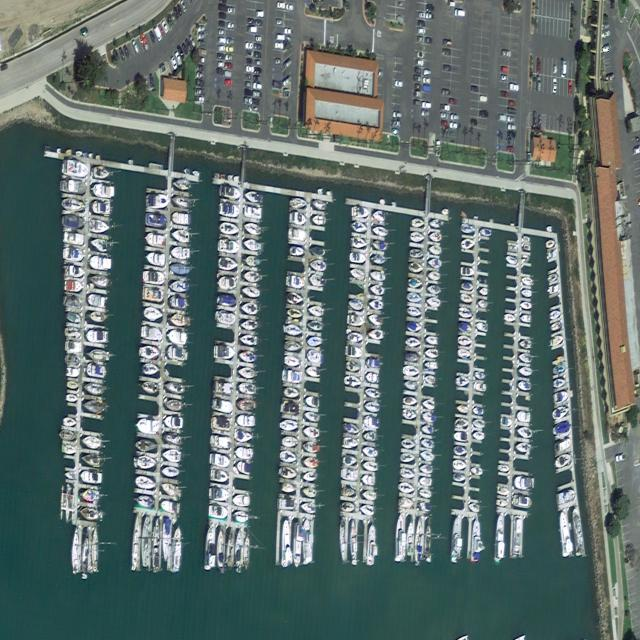ship: (393, 512, 407, 565), (59, 483, 76, 524), (558, 510, 571, 561), (130, 513, 141, 572), (450, 516, 462, 566), (571, 508, 583, 558), (61, 159, 89, 180), (170, 526, 182, 574), (151, 518, 161, 574), (204, 525, 215, 573), (494, 515, 505, 563), (140, 516, 150, 568), (292, 523, 302, 570), (471, 517, 481, 564), (60, 179, 87, 196), (512, 516, 523, 557), (281, 519, 290, 569), (414, 517, 423, 567), (366, 524, 376, 568), (302, 519, 311, 567), (424, 517, 433, 564), (555, 487, 576, 507), (62, 197, 85, 214), (89, 255, 112, 272), (212, 398, 233, 416), (209, 451, 230, 469), (140, 325, 162, 342), (62, 214, 84, 231), (349, 519, 358, 560), (161, 520, 170, 561), (338, 517, 346, 563), (552, 419, 571, 438), (216, 528, 225, 568), (81, 529, 89, 574), (63, 247, 84, 264), (145, 213, 167, 229), (92, 183, 114, 199), (219, 185, 241, 201), (210, 434, 232, 450), (91, 529, 99, 573), (161, 482, 183, 498), (63, 231, 85, 247), (146, 194, 169, 209), (554, 451, 572, 470), (89, 219, 109, 236), (219, 202, 239, 219), (211, 416, 231, 433), (143, 287, 164, 303), (218, 239, 239, 255), (135, 475, 156, 491), (137, 419, 158, 435), (143, 271, 165, 286), (136, 439, 158, 454), (72, 528, 79, 575), (234, 529, 242, 570), (91, 164, 110, 181), (143, 306, 163, 322), (216, 310, 236, 326), (209, 487, 229, 503), (136, 456, 156, 472), (86, 362, 106, 378), (81, 452, 101, 468), (145, 232, 166, 247), (214, 345, 235, 360), (82, 399, 103, 414), (512, 494, 533, 509), (226, 529, 234, 568), (86, 330, 108, 344), (554, 437, 572, 454), (552, 404, 570, 421), (218, 275, 237, 291), (167, 346, 187, 361), (208, 505, 228, 520), (139, 345, 159, 360), (89, 274, 109, 289), (84, 381, 104, 396), (168, 313, 189, 327), (81, 470, 102, 484), (64, 265, 85, 279), (406, 521, 414, 557), (244, 189, 263, 204), (220, 221, 239, 236), (217, 293, 236, 308), (214, 380, 233, 395), (210, 469, 229, 484), (135, 494, 154, 509), (162, 449, 181, 464), (170, 262, 190, 276), (219, 257, 239, 271), (276, 497, 296, 511), (514, 476, 534, 490), (281, 401, 299, 416), (288, 228, 306, 243), (233, 493, 251, 508), (92, 200, 110, 215), (90, 238, 108, 253), (80, 507, 98, 522), (282, 370, 301, 384), (168, 330, 187, 344), (64, 280, 83, 294), (88, 293, 107, 307), (88, 348, 107, 362), (146, 253, 166, 266), (63, 295, 83, 308), (169, 296, 186, 311), (241, 301, 258, 316), (244, 221, 261, 236), (161, 499, 178, 514), (286, 275, 304, 289), (243, 536, 250, 572), (164, 382, 185, 394), (142, 363, 160, 377), (83, 435, 101, 449), (172, 195, 191, 208), (239, 334, 258, 347), (80, 488, 99, 501), (164, 416, 183, 429), (553, 390, 569, 405), (307, 350, 324, 364), (279, 451, 296, 465), (173, 178, 190, 192), (289, 211, 306, 225), (350, 236, 367, 250), (341, 468, 358, 482), (65, 340, 82, 354), (279, 466, 297, 479), (347, 314, 365, 327), (234, 430, 252, 443), (237, 414, 255, 427), (161, 465, 179, 478), (280, 420, 299, 432), (169, 280, 188, 292), (171, 247, 190, 259), (237, 399, 256, 411), (549, 333, 564, 348), (286, 324, 302, 338), (287, 292, 303, 306), (363, 415, 379, 429), (347, 330, 363, 344), (232, 510, 248, 524), (281, 435, 298, 448), (283, 386, 300, 399), (172, 229, 189, 242), (172, 211, 189, 224), (310, 259, 327, 272), (372, 224, 389, 237), (352, 206, 369, 219), (349, 252, 366, 265), (362, 445, 379, 458), (344, 375, 361, 388), (238, 366, 255, 379), (164, 432, 181, 445), (141, 381, 158, 394), (64, 326, 81, 339), (64, 354, 81, 367), (284, 341, 302, 353), (402, 366, 420, 378), (235, 447, 253, 459), (242, 286, 260, 298), (242, 271, 260, 283), (243, 238, 261, 250), (289, 244, 304, 258), (372, 238, 387, 252), (370, 253, 386, 266), (351, 222, 367, 235), (343, 437, 359, 450), (346, 346, 362, 359), (399, 467, 415, 480), (303, 441, 320, 453), (364, 387, 381, 399), (239, 351, 256, 363), (89, 311, 106, 323), (59, 430, 76, 442), (362, 488, 376, 502), (281, 482, 296, 495), (309, 274, 324, 287), (360, 504, 375, 517), (341, 485, 356, 498), (350, 268, 365, 281), (368, 313, 383, 326), (166, 398, 181, 411), (401, 438, 416, 451), (398, 496, 413, 509), (516, 442, 531, 455), (553, 375, 566, 390), (284, 356, 300, 368), (304, 411, 320, 423), (303, 427, 319, 439), (303, 457, 319, 469), (287, 308, 303, 320), (308, 305, 324, 317), (290, 197, 306, 209), (405, 336, 421, 348), (343, 422, 359, 434), (241, 319, 257, 331), (398, 482, 414, 494), (300, 502, 317, 513), (367, 329, 384, 340), (239, 383, 256, 394), (305, 395, 319, 408), (346, 361, 360, 374), (237, 460, 250, 474), (553, 363, 566, 377), (312, 214, 327, 226), (410, 232, 425, 244), (409, 262, 424, 274), (408, 278, 423, 290), (407, 292, 422, 304), (406, 307, 421, 319), (361, 474, 376, 486), (342, 454, 357, 466), (366, 357, 381, 369), (369, 299, 384, 311), (348, 299, 363, 311), (66, 312, 81, 324), (458, 335, 473, 347), (461, 238, 476, 250), (452, 459, 467, 471), (517, 427, 532, 439), (406, 322, 422, 333), (404, 352, 420, 363), (370, 270, 386, 281), (64, 469, 77, 482), (312, 199, 326, 211), (341, 501, 355, 513), (411, 217, 425, 229), (428, 231, 442, 243), (370, 284, 384, 296), (63, 444, 77, 456), (403, 409, 417, 421), (420, 450, 434, 462), (517, 411, 531, 423), (549, 308, 561, 322), (306, 366, 321, 377), (302, 487, 317, 498), (307, 320, 322, 331), (310, 246, 325, 257), (427, 258, 442, 269), (427, 284, 442, 295), (426, 296, 441, 307), (364, 401, 379, 412), (245, 255, 260, 266), (455, 376, 470, 387), (400, 453, 415, 464), (372, 209, 385, 221), (454, 445, 467, 457), (427, 270, 441, 281), (455, 418, 469, 429), (457, 349, 471, 360), (461, 266, 475, 277), (454, 431, 468, 442), (403, 395, 417, 406), (422, 412, 436, 423), (496, 498, 510, 509), (307, 336, 322, 346), (461, 224, 476, 234), (521, 275, 533, 287), (520, 300, 532, 312), (428, 244, 441, 255), (366, 372, 379, 383), (422, 398, 435, 409), (459, 308, 472, 319), (461, 281, 474, 292), (421, 424, 434, 435), (418, 501, 431, 512), (551, 320, 562, 333), (547, 271, 558, 284), (302, 472, 316, 482), (410, 248, 424, 258), (425, 335, 439, 345), (424, 361, 438, 371), (363, 461, 377, 471), (63, 417, 77, 427), (404, 380, 418, 390), (418, 489, 432, 499), (424, 348, 439, 357), (363, 432, 378, 441), (67, 380, 79, 391), (520, 288, 532, 299), (468, 502, 480, 513), (500, 417, 512, 428), (497, 486, 509, 497), (67, 368, 80, 378), (475, 322, 488, 332), (460, 294, 473, 304), (421, 439, 434, 449), (470, 466, 483, 476), (519, 353, 532, 363), (519, 366, 532, 376), (518, 381, 531, 391), (507, 242, 518, 253), (506, 254, 517, 265), (474, 382, 486, 392), (459, 323, 471, 333), (519, 339, 531, 349), (453, 473, 465, 483), (545, 238, 555, 250), (479, 228, 492, 237), (472, 419, 485, 428), (420, 464, 433, 473), (430, 219, 441, 229), (478, 298, 488, 309), (66, 394, 78, 403), (456, 405, 468, 414), (504, 314, 516, 323), (497, 464, 509, 473), (472, 432, 485, 440), (420, 477, 433, 485), (424, 375, 435, 384), (474, 371, 485, 380), (520, 314, 531, 323), (422, 83, 431, 93), (473, 407, 483, 416), (392, 119, 401, 128), (479, 287, 488, 296), (192, 168, 200, 178), (413, 82, 421, 92), (413, 66, 422, 74), (376, 70, 384, 79), (391, 128, 400, 136), (413, 91, 422, 99), (443, 64, 452, 72), (395, 80, 403, 88), (523, 244, 531, 252), (441, 207, 449, 215), (392, 112, 401, 119), (233, 175, 240, 183), (65, 148, 72, 156), (76, 150, 82, 158), (523, 236, 531, 242), (317, 188, 324, 194), (214, 173, 220, 180), (82, 152, 88, 159), (227, 175, 233, 181), (547, 226, 553, 232), (221, 174, 226, 180), (326, 191, 332, 196)
small-vehicle: (153, 25, 162, 42), (140, 33, 148, 50), (161, 18, 169, 35), (170, 55, 178, 72), (174, 50, 182, 67), (184, 37, 192, 54), (118, 46, 126, 63), (131, 39, 140, 54), (605, 71, 615, 84), (560, 60, 567, 78), (421, 99, 432, 110), (615, 453, 626, 464), (283, 57, 293, 69), (123, 44, 131, 59), (182, 42, 189, 59), (176, 2, 183, 18), (178, 45, 185, 61), (443, 37, 453, 48), (454, 8, 465, 18), (244, 71, 254, 82), (508, 82, 519, 92), (602, 43, 612, 54), (282, 74, 291, 86), (149, 30, 156, 45), (189, 33, 196, 48), (173, 5, 179, 22), (252, 81, 262, 91), (416, 34, 425, 45), (217, 35, 226, 46), (478, 109, 489, 118), (507, 121, 516, 132), (243, 95, 251, 107), (159, 23, 165, 39), (423, 67, 432, 77), (414, 57, 423, 67), (441, 88, 451, 97), (252, 89, 261, 99), (255, 18, 264, 28), (425, 3, 434, 13), (79, 27, 88, 37), (197, 48, 207, 57), (196, 70, 205, 80), (227, 4, 236, 14), (470, 117, 478, 128), (536, 57, 541, 74), (277, 1, 286, 10), (217, 27, 226, 36), (218, 10, 227, 19), (245, 49, 254, 58), (252, 74, 261, 83), (244, 80, 253, 89), (195, 78, 204, 87), (227, 21, 236, 30), (275, 33, 285, 41), (218, 19, 226, 29), (254, 42, 262, 52), (501, 50, 511, 58), (196, 85, 204, 95), (255, 33, 262, 44), (536, 76, 541, 91), (276, 18, 284, 27), (413, 74, 421, 83), (422, 77, 431, 85), (421, 110, 430, 118), (417, 19, 426, 27), (443, 48, 452, 56), (449, 97, 457, 106), (441, 103, 450, 111), (450, 113, 459, 121), (450, 122, 458, 131), (479, 94, 487, 103), (217, 52, 226, 60), (217, 44, 226, 52), (256, 9, 264, 18), (245, 57, 254, 65), (254, 59, 262, 68), (254, 67, 262, 76), (508, 98, 516, 107), (273, 80, 281, 89), (601, 30, 610, 38), (225, 78, 233, 87), (225, 61, 233, 70), (274, 42, 284, 49), (440, 120, 450, 127), (499, 91, 509, 98), (226, 53, 233, 63), (471, 84, 479, 92), (247, 16, 255, 24), (246, 41, 254, 49), (254, 51, 262, 59), (501, 65, 509, 73), (499, 113, 507, 121), (552, 78, 556, 94), (507, 145, 515, 153), (196, 64, 204, 72), (197, 56, 205, 64), (226, 37, 234, 45), (226, 46, 234, 54), (284, 27, 293, 34), (248, 26, 257, 33), (245, 66, 254, 73), (506, 116, 515, 123), (568, 80, 572, 95), (419, 10, 426, 18), (441, 112, 449, 119), (286, 3, 293, 11), (425, 37, 433, 44), (426, 12, 433, 20), (417, 50, 424, 58), (501, 74, 508, 82), (0, 64, 7, 72), (216, 67, 224, 74), (198, 24, 206, 31), (198, 33, 206, 40), (197, 40, 206, 46), (244, 89, 251, 96), (274, 58, 281, 65), (225, 71, 232, 78), (217, 61, 225, 67)
